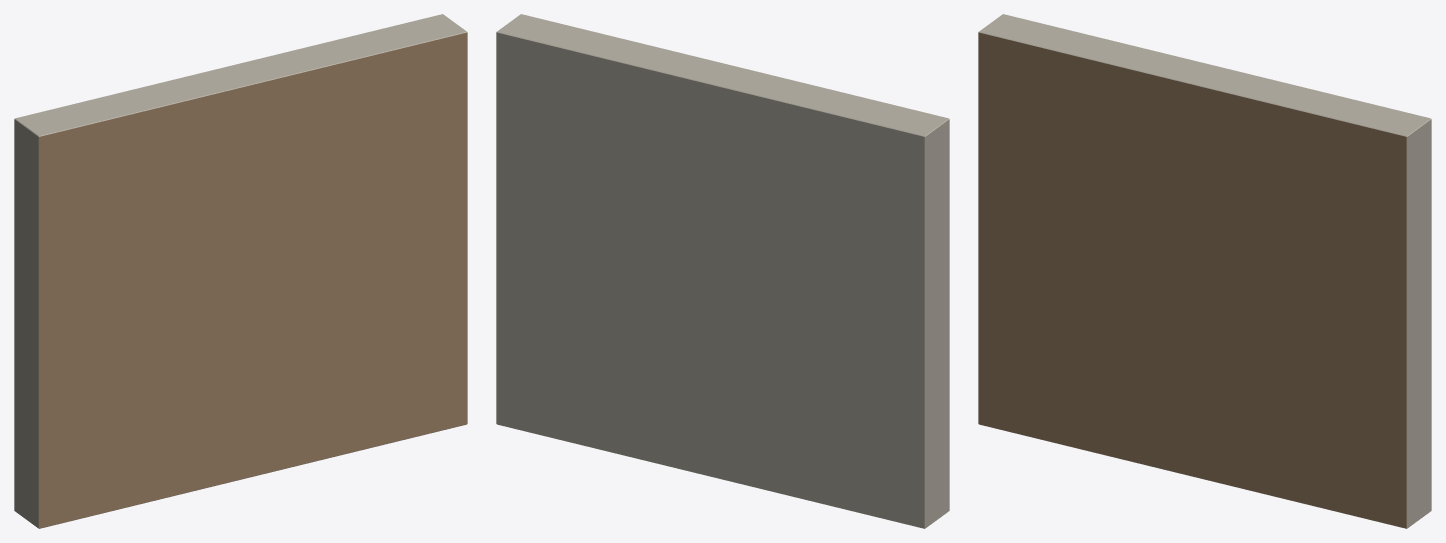
File: arch_wall_ext_w400_h350.glb
3 views of the same model, side by side, from view 1: azimuth 30°, elevation 25°; view 2: azimuth 150°, elevation 25°; view 3: azimuth 330°, elevation 25° (orthographic).
Visible parts, largest first — view 1: Wall; view 2: Wall; view 3: Wall.
Boxes of the visible parts, x1,y1,x2,y2 form: Wall: [14, 14, 467, 528]; Wall: [496, 14, 949, 528]; Wall: [978, 14, 1431, 528].
Size of what is drawn, in the model's own units: 4 by 3.5 by 0.4.
